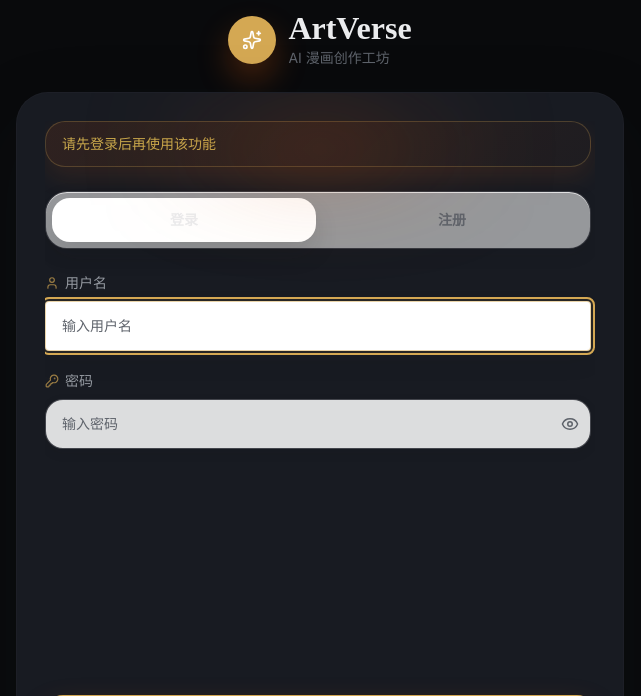
Test case: LoginPage security flow › does not show a login-only message in register mode
The width and height of the screenshot is (641, 696).
expect the text "请先登录后再使用该功能" is shown: met, box left=45, top=121, right=591, bottom=167
Click the button "注册": coordinates (452, 220) left=320, top=198, right=584, bottom=242
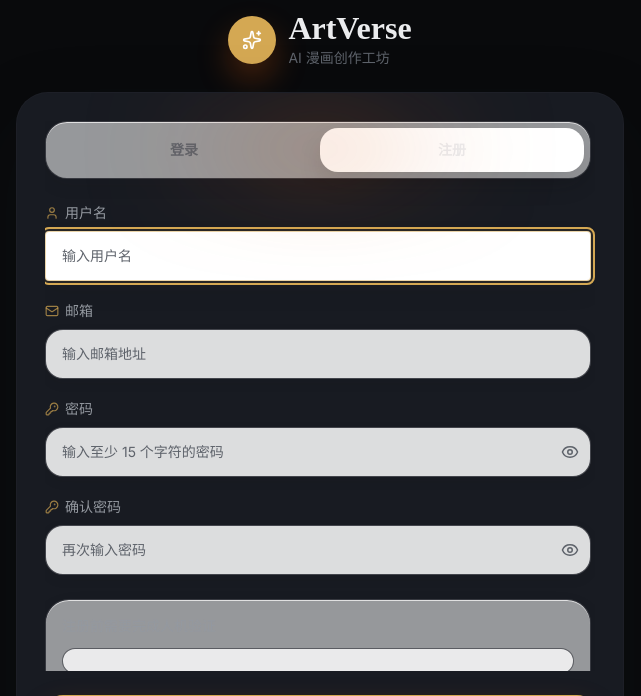
expect the text "请先登录后再使用该功能" is gone: met
